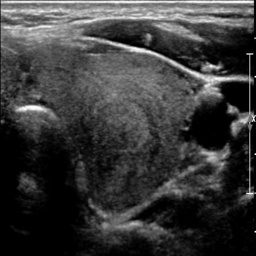mass: (83, 101, 151, 213)
